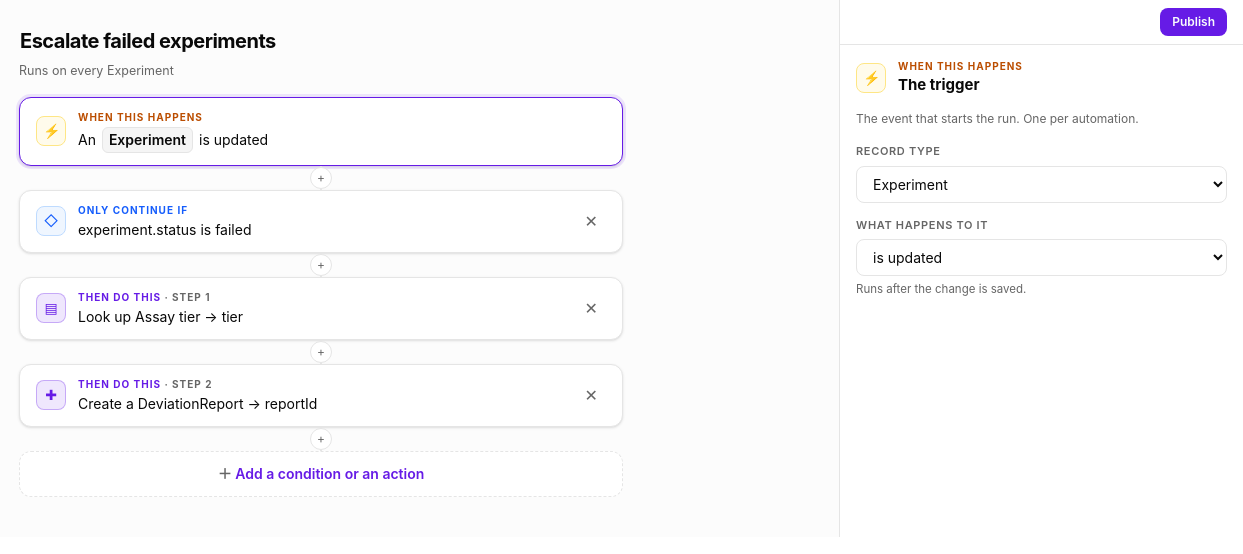
Test case: AutomationBuilder › removes a step when its ✕ is pressed
The width and height of the screenshot is (1243, 554).
Expected: the text "· step 2" is shown, [161,378,212,390]
What coordinates should you click on to do the following:
click the button named "remove this"
I would click on:
 (591, 395)
Its box is [577,379,606,411].
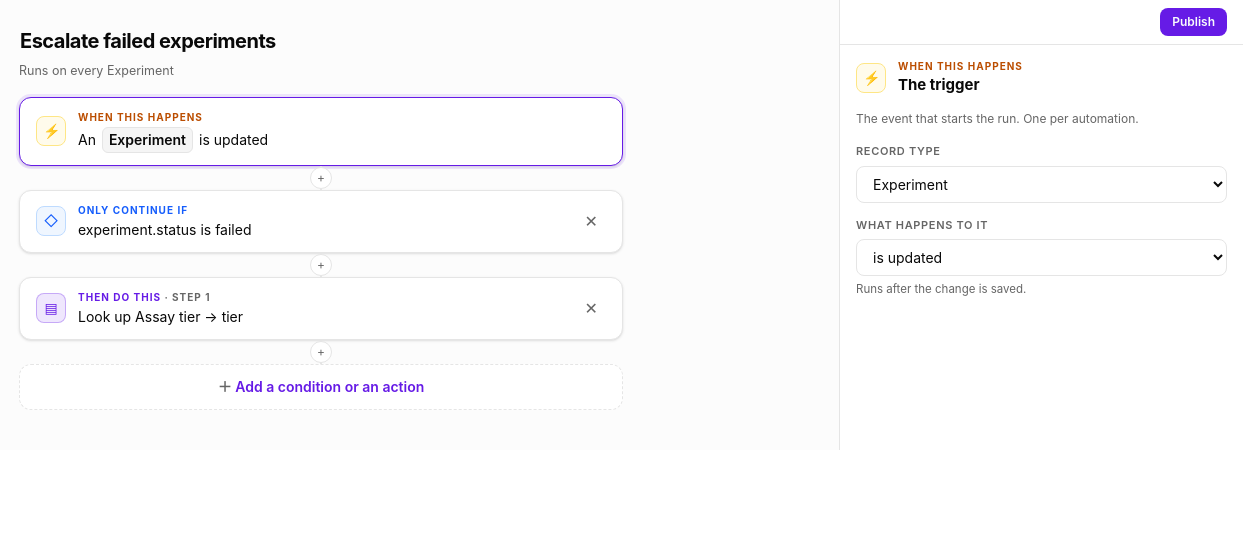
Expected: the button "· step 2" is gone
